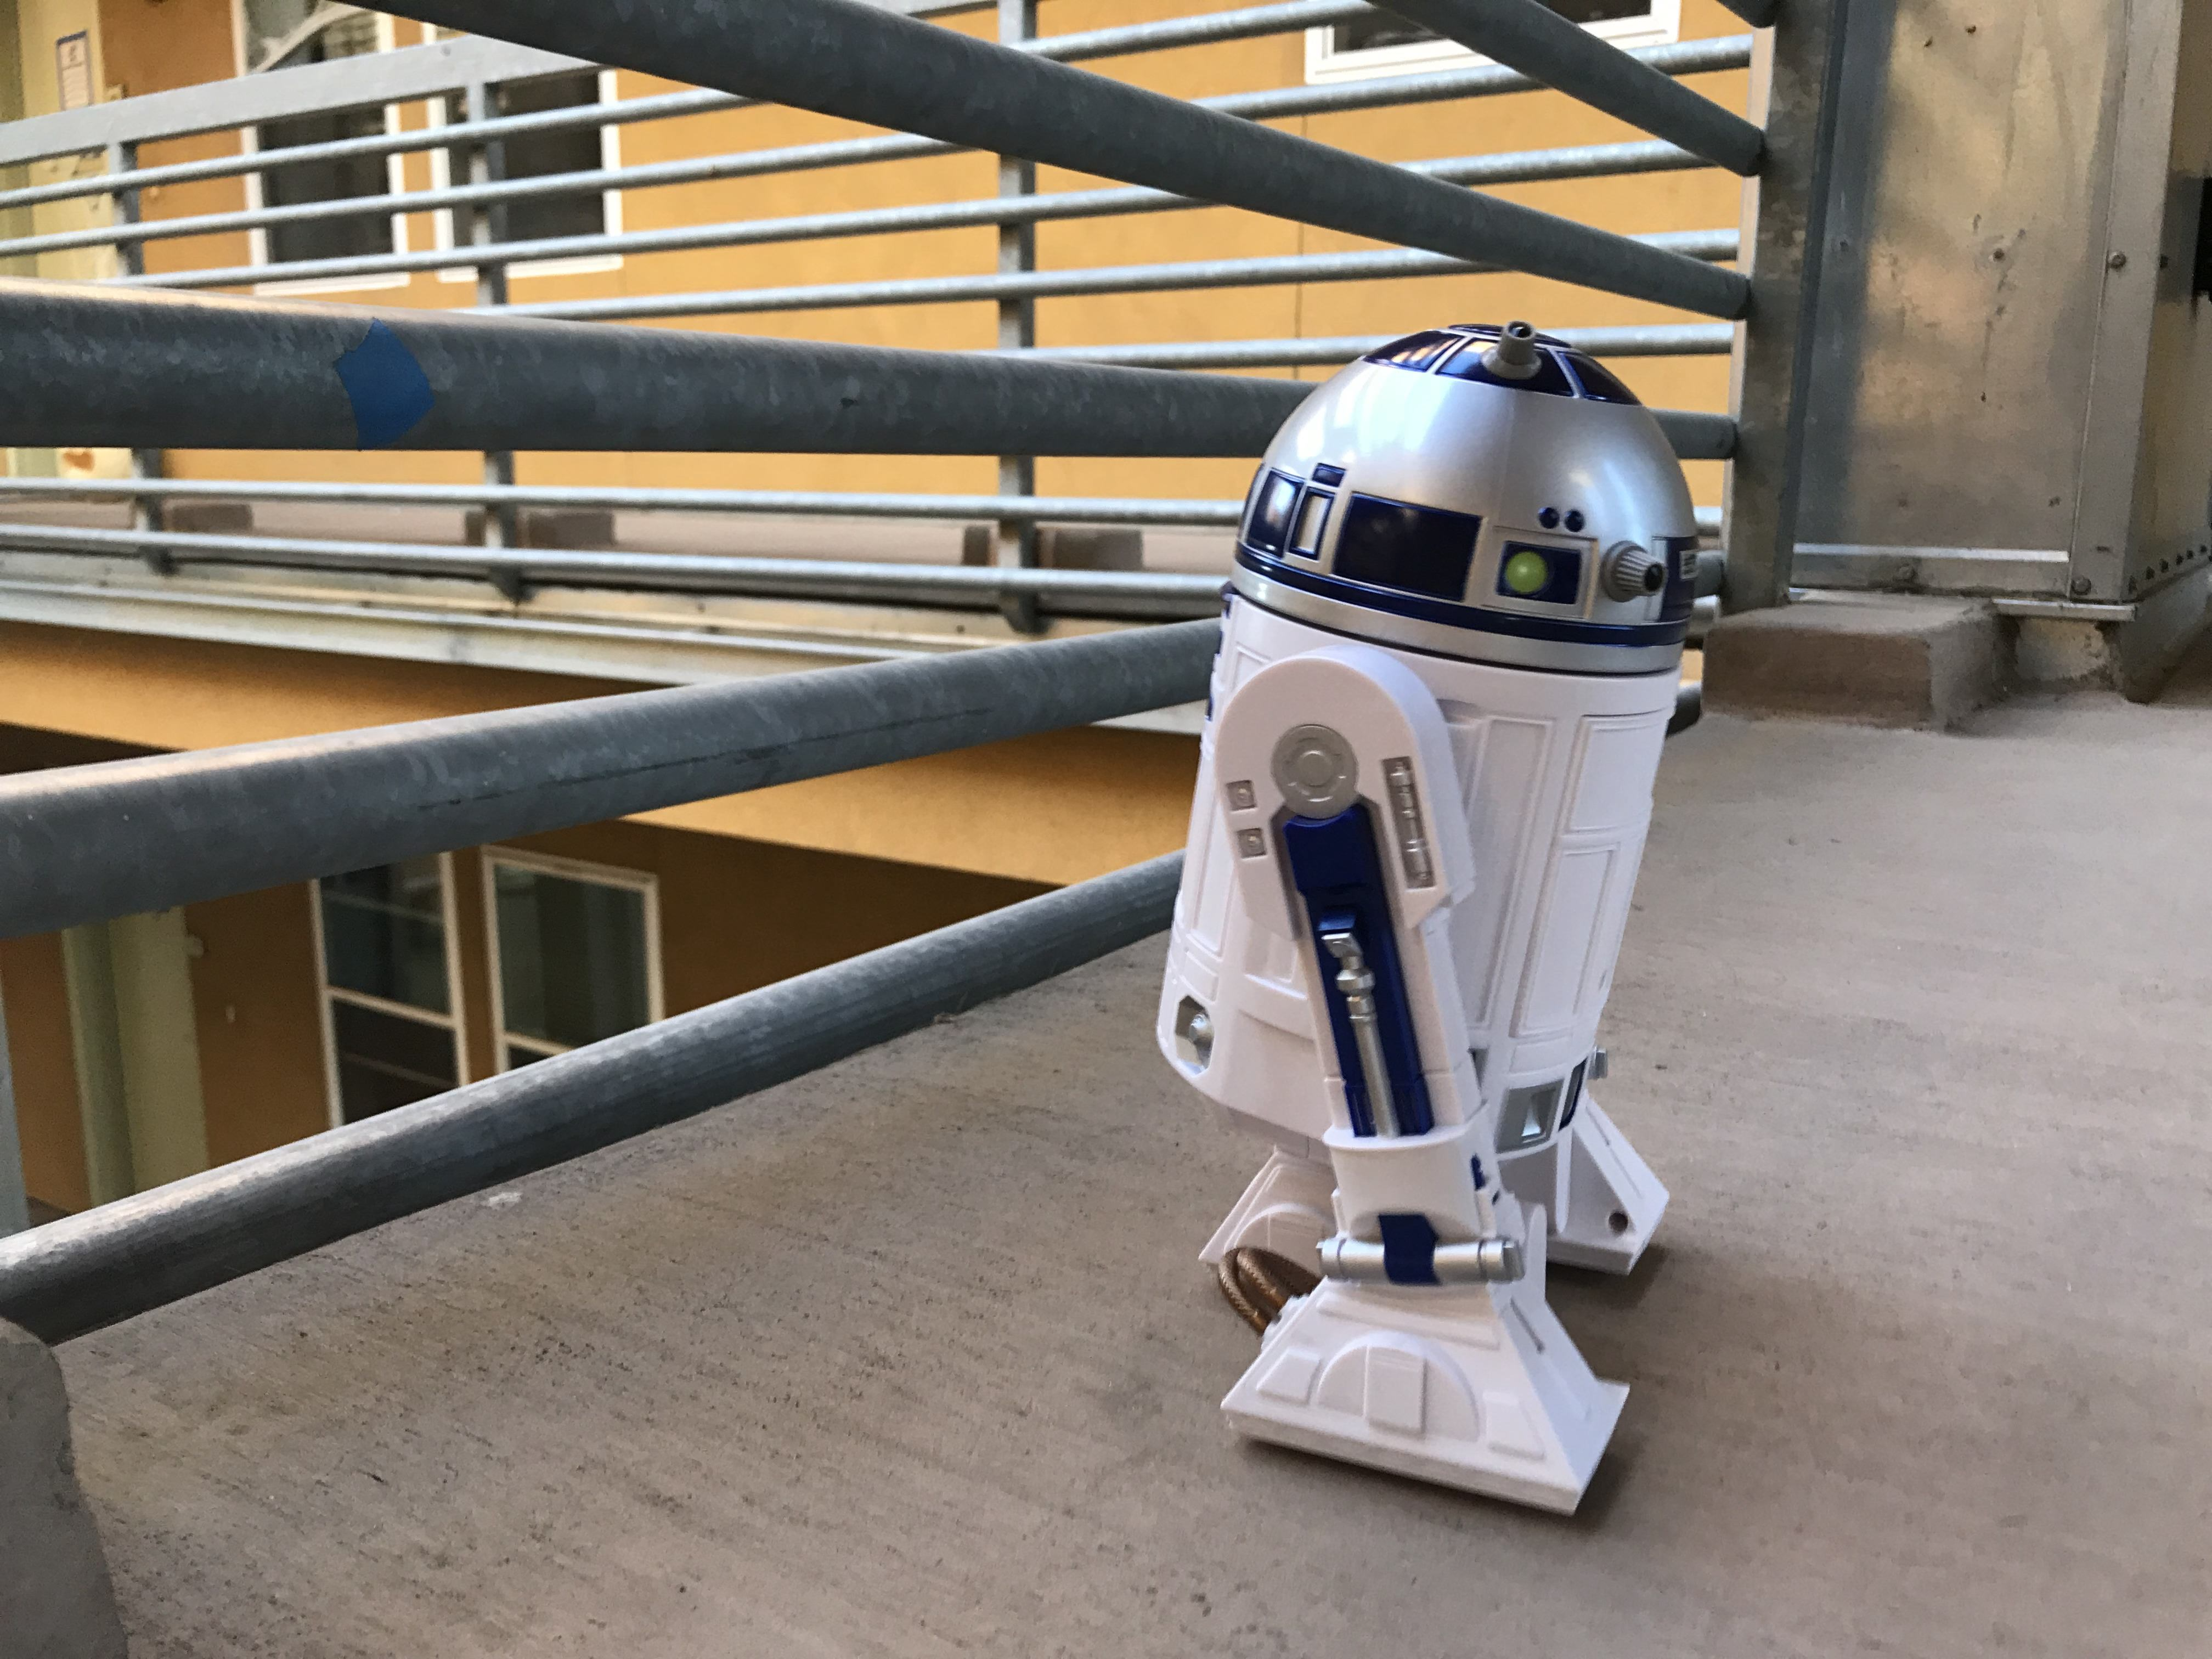r2d2: (1155, 321, 1696, 1520)
